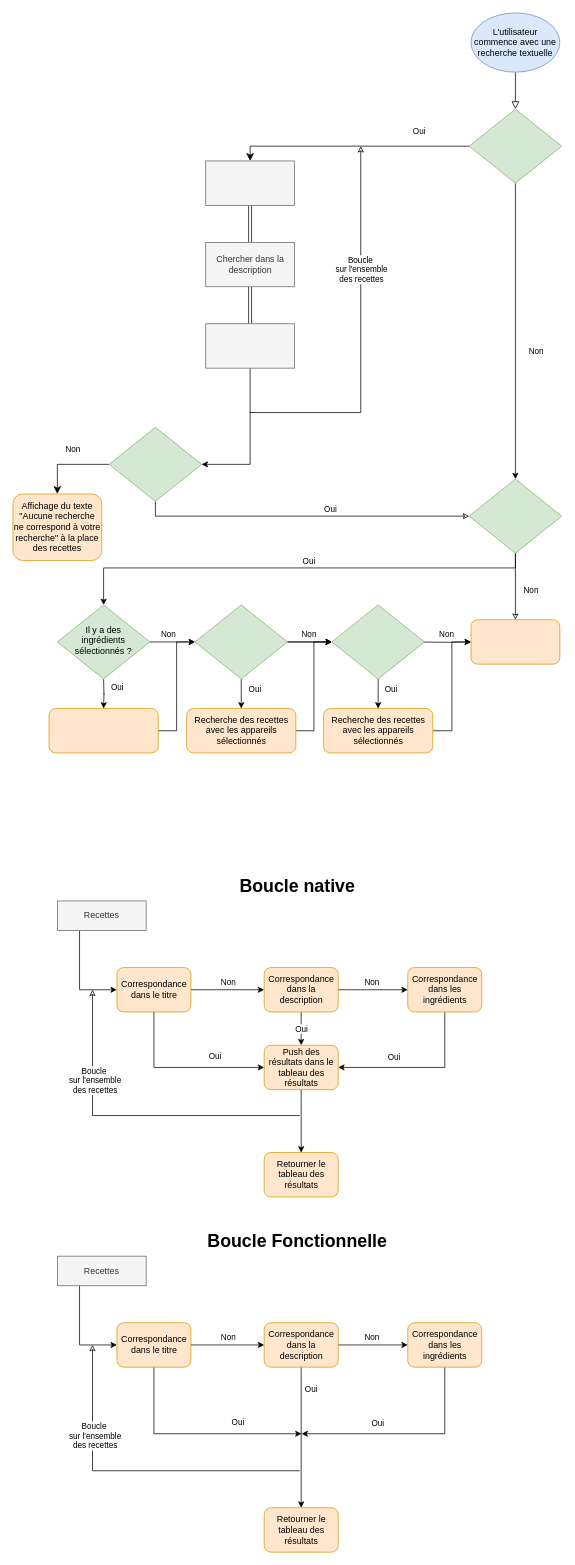
This 575x1565 diagram has some shape labels left out. The centre of each missing label's shape, as x and y in pixels:
"Affichage des recettes" belongs at (x=515, y=641).
"Chercher dans le titre" belongs at (x=250, y=182).
"Chercher dans les ingrédients" belongs at (x=250, y=345).
"Des recettes correspondent à la recherche" belongs at (x=155, y=464).
"Il y a 3 caractères ou plus ?" belongs at (x=515, y=145).
"Il y a des appareils sélectionnés ?" belongs at (x=240, y=641).
"Il y a des tags sélectionnés" belongs at (x=515, y=515).
"Il y a des ustensiles sélectionnés ?" belongs at (x=377, y=641).
"Recherche des recettes avec les ingrédients sélectionnés" belongs at (x=103, y=730).
